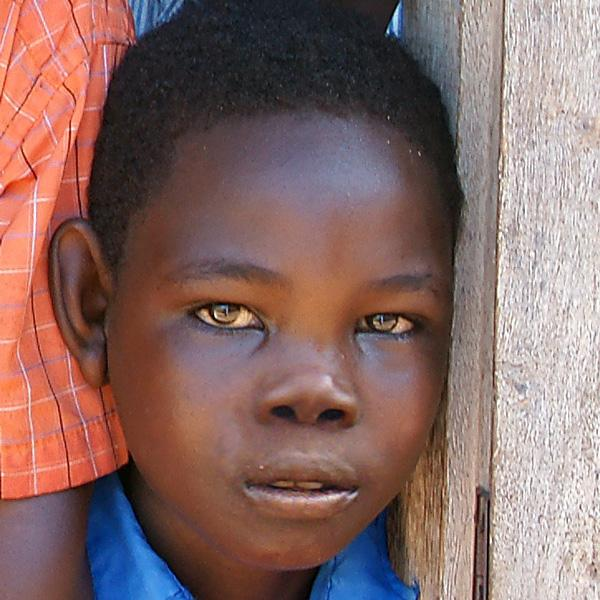Eyes: (176, 284, 273, 343), (348, 298, 432, 354)
